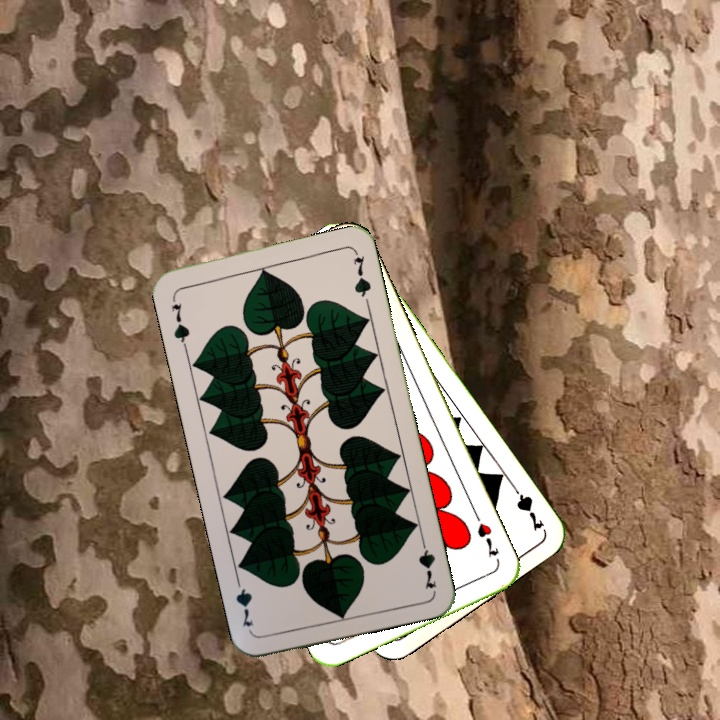G7: (508, 479, 546, 533), (414, 533, 439, 592), (167, 298, 193, 351)
H7: (470, 508, 501, 560)
